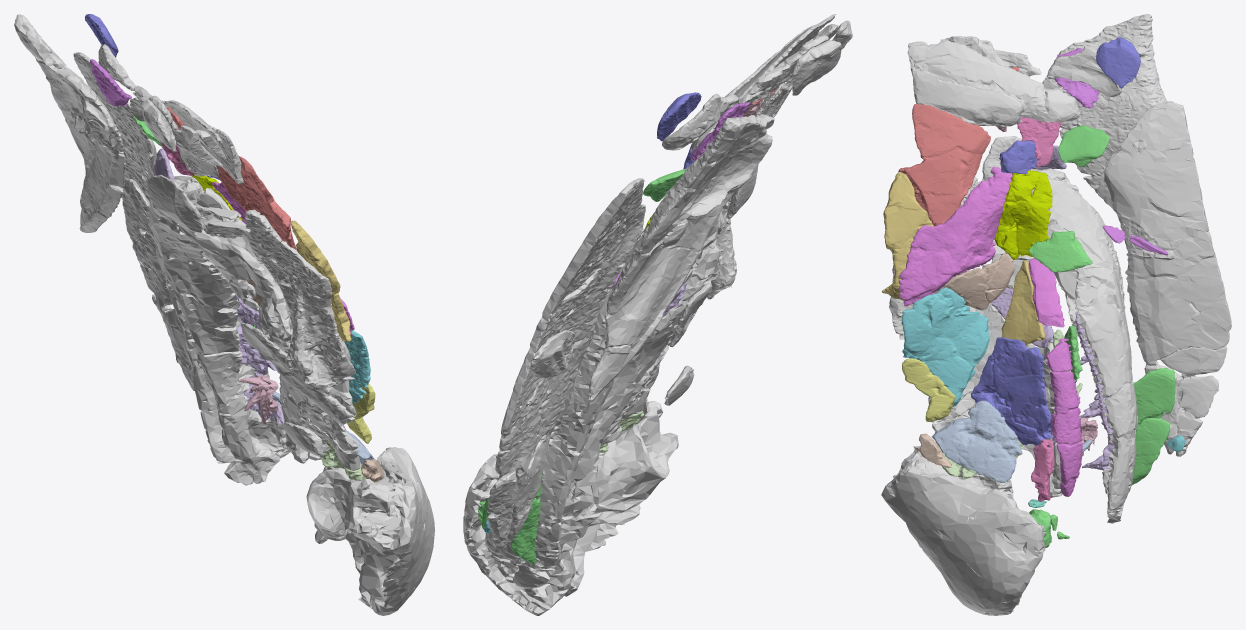
Rendered from gik-991.glb.
3 renders of one model, left to right at view 1: azimuth 30°, elevation 25°; view 2: azimuth 150°, elevation 25°; view 3: azimuth 270°, elevation 25°, orthographic. The views are drawn at different scales.
Visible parts, largest first — view 1: ethmoid, prearticular_meckels, hyomandibula, palatoquadrate_posterior, cleithrum, scales, lateral_gular, branchiostegals, dentary_infradentaries, suboperculum, operculum, coronoids (+5 smaller); view 2: lateral_gular, cleithrum, ethmoid, dentary_infradentaries, palatoquadrate_posterior, scales, branchiostegals, submandibular, hyomandibula, pectoral_fin_scale, bone_3, prearticular_meckels; view 3: lateral_gular, ethmoid, dentary_infradentaries, branchiostegals, preoperculum, submandibular, cleithrum, suboperculum, squamosal, jugal, maxilla, postorbital (+19 smaller).
Part boxes in pixels (x1,y1,x2,y2): ethmoid: (306,447,434,615); prearticular_meckels: (148,178,285,469); hyomandibula: (194,205,355,389); palatoquadrate_posterior: (178,188,361,470); cleithrum: (14,14,125,232); scales: (122,97,323,457); lateral_gular: (73,52,194,390); branchiostegals: (98,44,353,424); dentary_infradentaries: (155,175,291,485); suboperculum: (216,156,295,249); operculum: (291,220,351,341); coronoids: (237,297,283,423); lateral_gular: (487,178,645,549); cleithrum: (588,114,774,402); ethmoid: (463,401,678,615); dentary_infradentaries: (485,225,648,589); palatoquadrate_posterior: (567,213,724,496); scales: (530,20,852,405); branchiostegals: (662,14,836,346); submandibular: (510,169,684,564); hyomandibula: (707,194,736,299); pectoral_fin_scale: (657,92,701,141); bone_3: (690,102,749,160); prearticular_meckels: (578,213,720,463); lateral_gular: (1104,101,1231,456); ethmoid: (881,446,1045,615); dentary_infradentaries: (1031,178,1137,523); branchiostegals: (907,36,1121,308); preoperculum: (898,166,1012,306); submandibular: (1028,125,1175,485); cleithrum: (1042,14,1167,212); suboperculum: (898,104,990,226); squamosal: (901,287,989,406); jugal: (971,337,1052,445); maxilla: (1028,257,1082,496); postorbital: (931,400,1022,482).
Size of the model in its own units: 87.64 by 149 by 96.04.
